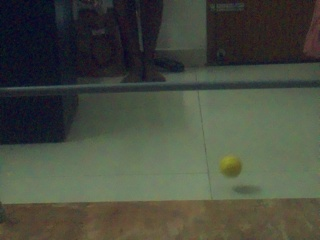ball: (219, 155, 241, 177)
